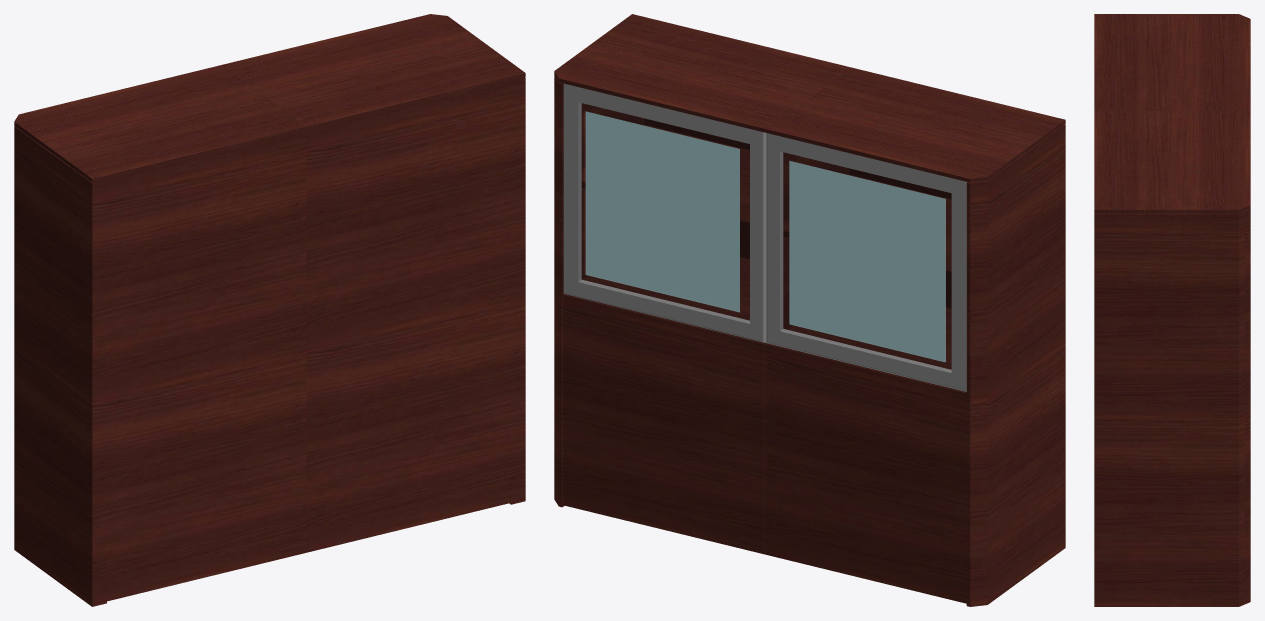
The picture shows the model from 3 angles, left to right: view 1: azimuth 30°, elevation 25°; view 2: azimuth 150°, elevation 25°; view 3: azimuth 270°, elevation 25°; orthographic projection. The views are drawn at different scales.
Visible parts, largest first — view 1: mesh1_mesh1-geometry; view 2: mesh1_mesh1-geometry, mesh5_mesh5-geometry, mesh4_mesh4-geometry, mesh6_mesh6-geometry, mesh7_mesh7-geometry, mesh2_mesh2-geometry, mesh3_mesh3-geometry; view 3: mesh1_mesh1-geometry.
Part boxes in pixels (x1,y1,x2,y2): mesh1_mesh1-geometry: [14, 14, 525, 606]; mesh1_mesh1-geometry: [554, 14, 1065, 606]; mesh5_mesh5-geometry: [789, 160, 945, 362]; mesh4_mesh4-geometry: [585, 111, 739, 312]; mesh6_mesh6-geometry: [563, 84, 761, 341]; mesh7_mesh7-geometry: [767, 133, 966, 390]; mesh2_mesh2-geometry: [563, 83, 765, 342]; mesh3_mesh3-geometry: [765, 132, 966, 391]; mesh1_mesh1-geometry: [1094, 14, 1250, 606].
Bounding box in the file's own units: 0.7064 × 0.6665 × 0.2382.
5 materials, 1 textured.
